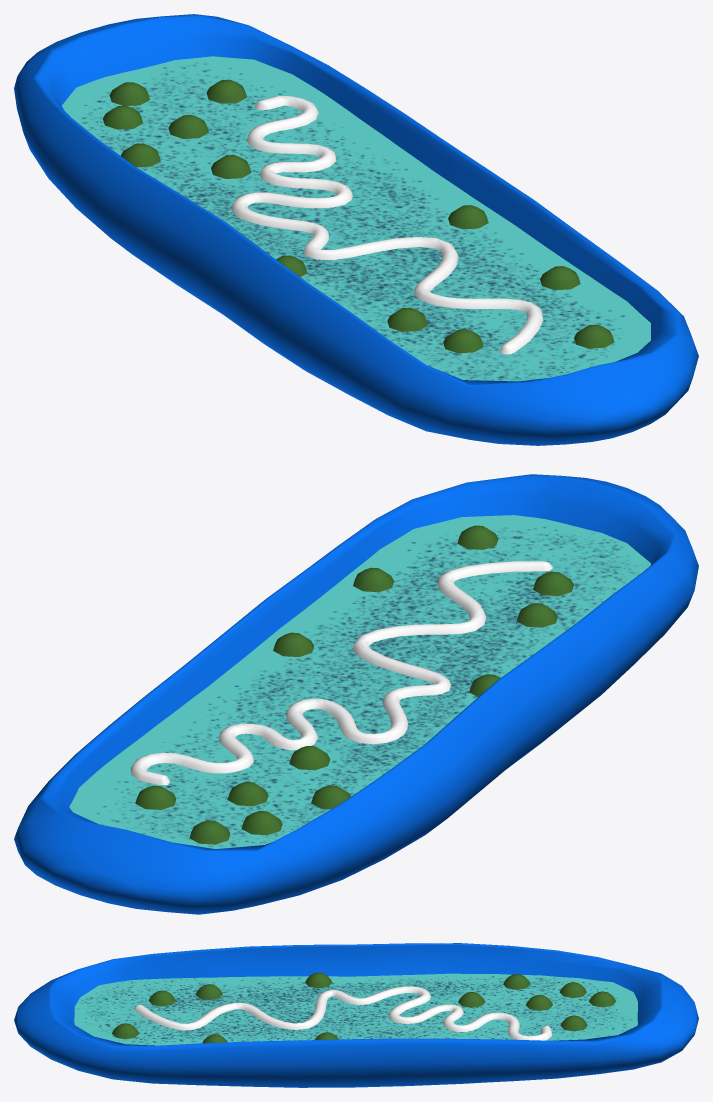
The model's file is lactobac.fbx.
The picture shows the model from 3 angles, top to bottom: view 1: azimuth 30°, elevation 25°; view 2: azimuth 150°, elevation 25°; view 3: azimuth 270°, elevation 25°; orthographic projection. The views are drawn at different scales.
Visible parts, largest first — view 1: lacto_bac; view 2: lacto_bac; view 3: lacto_bac.
Part boxes in pixels (x1=…): lacto_bac: x1=14, y1=14, x2=698, y2=445; lacto_bac: x1=14, y1=474, x2=698, y2=914; lacto_bac: x1=14, y1=943, x2=698, y2=1087.
Bounding box in the file's own units: 8.2 × 3.09 × 22.88.
1 material, 1 textured.
